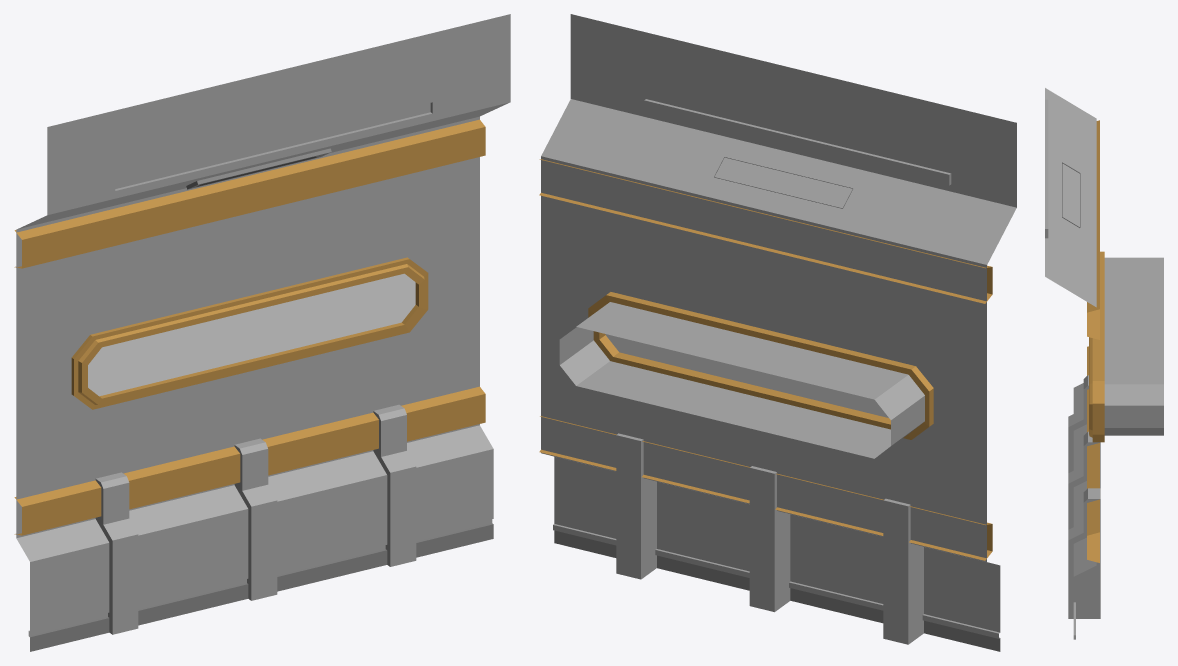
Rendered from LongWindow_Wall_SideA.glb.
3 views of the same model, side by side, from view 1: azimuth 30°, elevation 25°; view 2: azimuth 150°, elevation 25°; view 3: azimuth 270°, elevation 25° (orthographic). The views are drawn at different scales.
Visible parts, largest first — view 1: LongWindow_Wall_SideA; view 2: LongWindow_Wall_SideA; view 3: LongWindow_Wall_SideA.
Boxes of the visible parts, x1=… form: LongWindow_Wall_SideA: x1=14, y1=14, x2=510, y2=651; LongWindow_Wall_SideA: x1=539, y1=14, x2=1016, y2=651; LongWindow_Wall_SideA: x1=1045, y1=88, x2=1163, y2=639.
Size of the model in its own units: 4 by 4.43 by 1.06.
